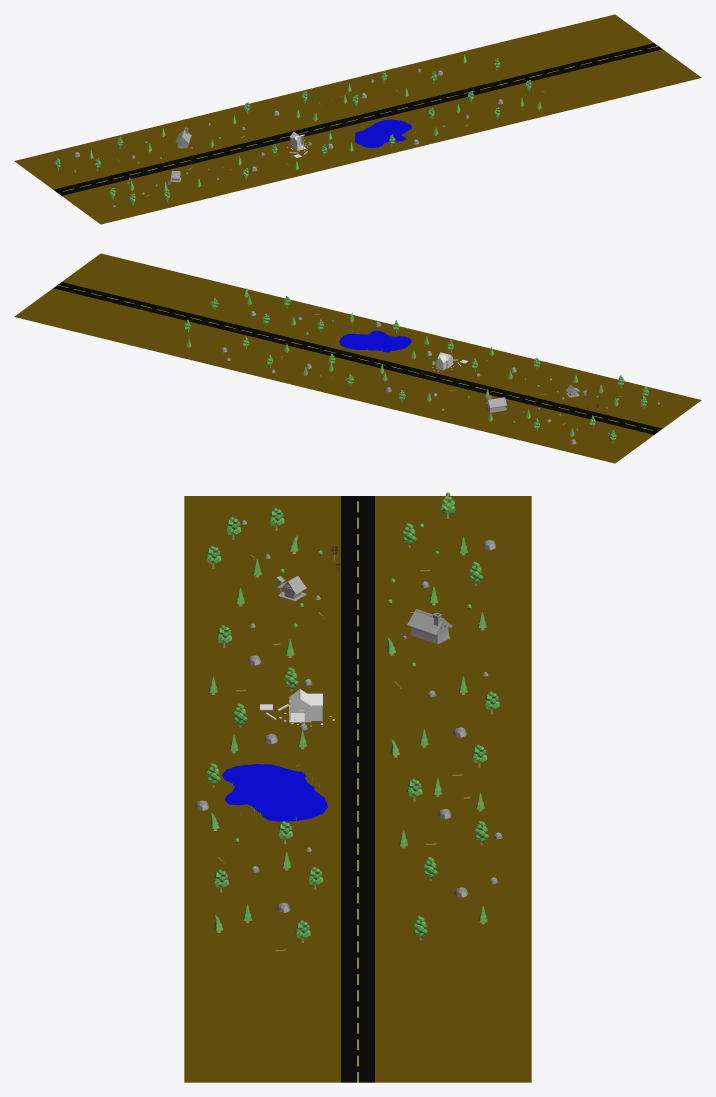
The model's file is WholeScene.fbx.
The picture shows the model from 3 angles, top to bottom: view 1: azimuth 30°, elevation 25°; view 2: azimuth 150°, elevation 25°; view 3: azimuth 270°, elevation 25°; orthographic projection. The views are drawn at different scales.
Parts seen in each view (by area): view 1: grass_n_road:pPlane2, pPlane137; view 2: grass_n_road:pPlane2, pPlane137; view 3: grass_n_road:pPlane2, pPlane137, Cube_Cube.001, wasteland_assets_safety:pCube300.
Part boxes in pixels (left/top/right/bottom): grass_n_road:pPlane2: left=14, top=14, right=701, bottom=224; pPlane137: left=354, top=119, right=411, bottom=147; grass_n_road:pPlane2: left=14, top=253, right=701, bottom=463; pPlane137: left=339, top=330, right=411, bottom=352; grass_n_road:pPlane2: left=184, top=496, right=531, bottom=1082; pPlane137: left=222, top=764, right=327, bottom=821; Cube_Cube.001: left=260, top=688, right=334, bottom=726; wasteland_assets_safety:pCube300: left=407, top=609, right=452, bottom=644.
Bounding box in the file's own units: 630 × 13.84 × 157.
